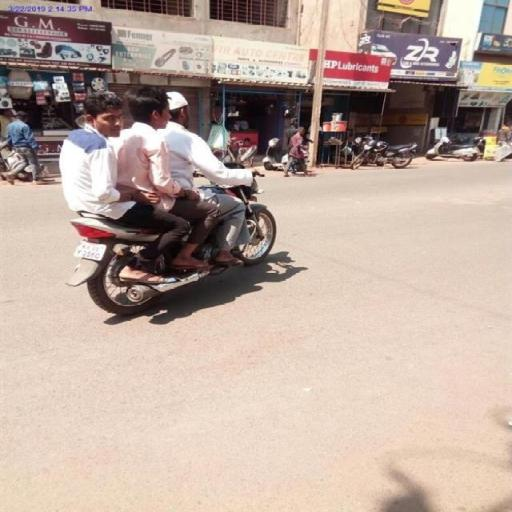tripple riding: (29, 67, 231, 249)
